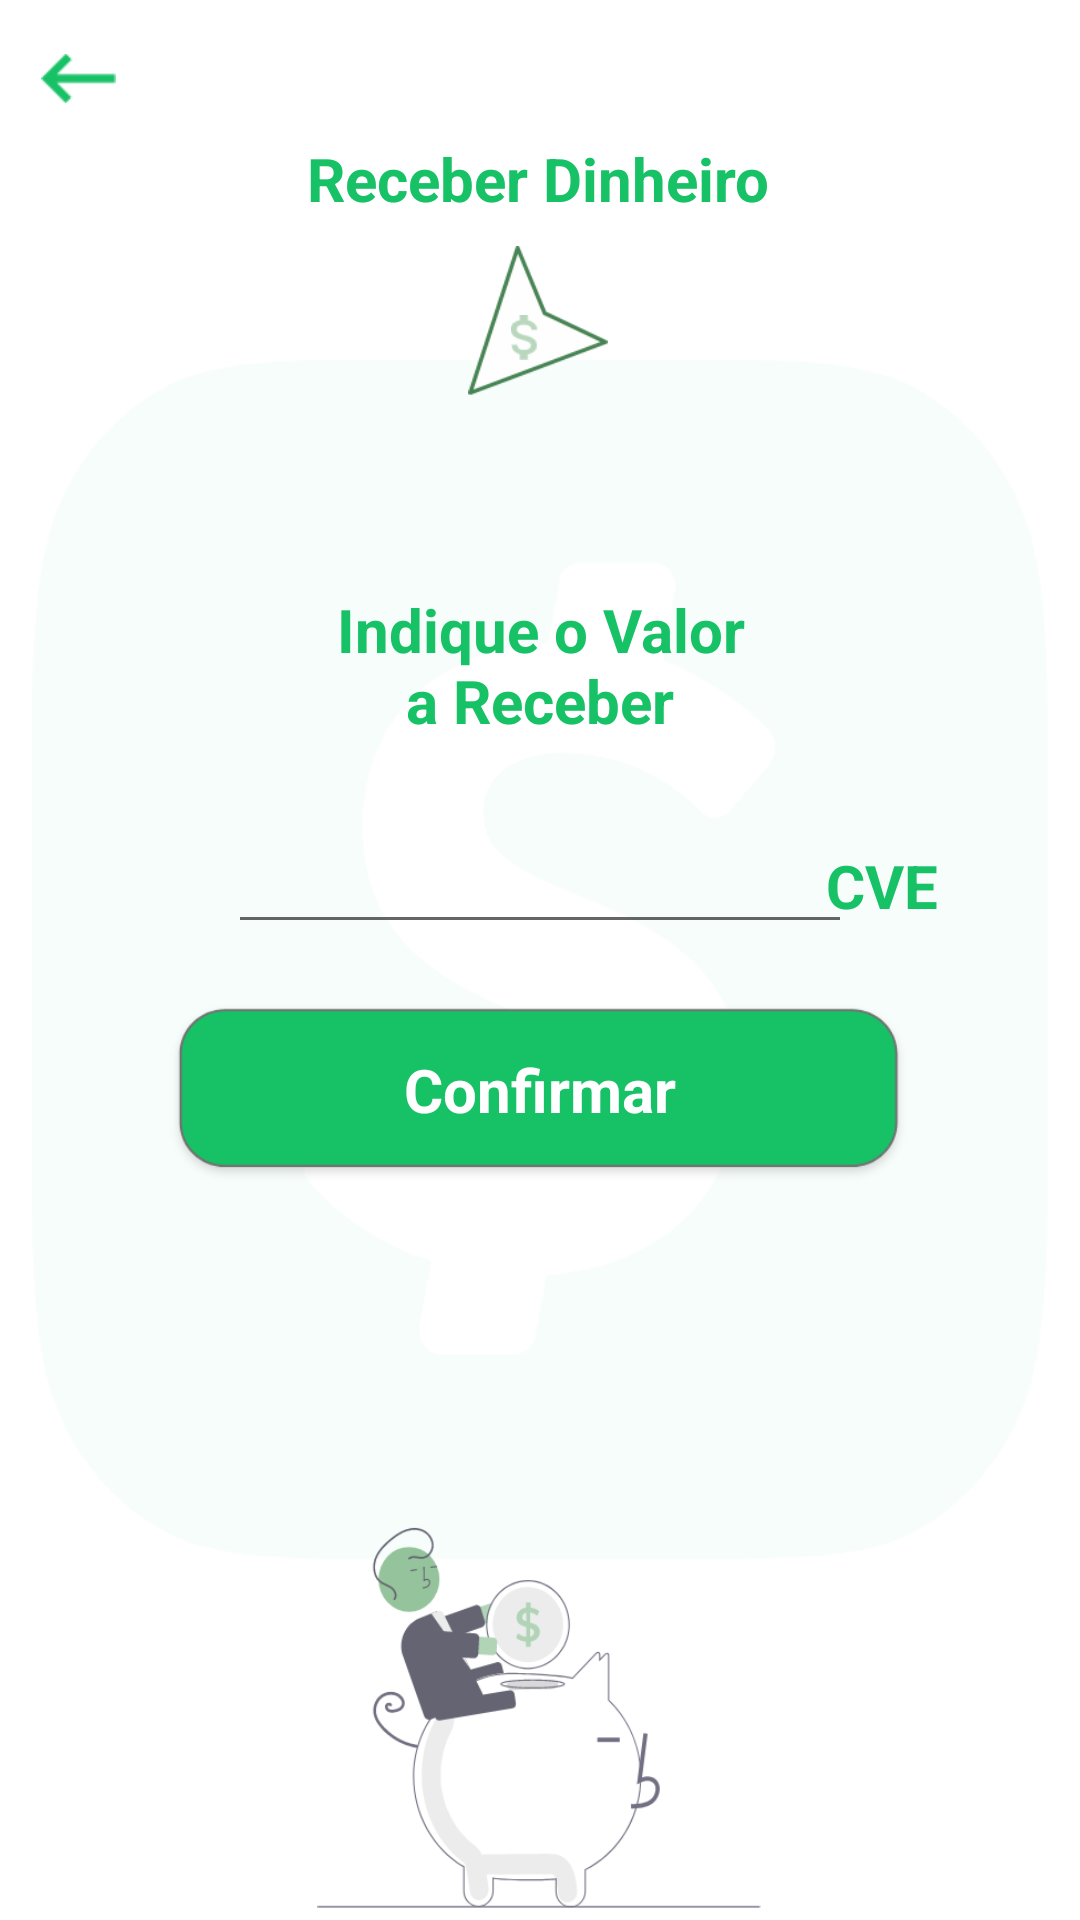

Locate icon controls on the screen. Image size 1080x1920, boxes as {"left": x1, "top": y1, "right": x2, "bottom": y2}.
arrow: {"left": 41, "top": 54, "right": 116, "bottom": 103}
